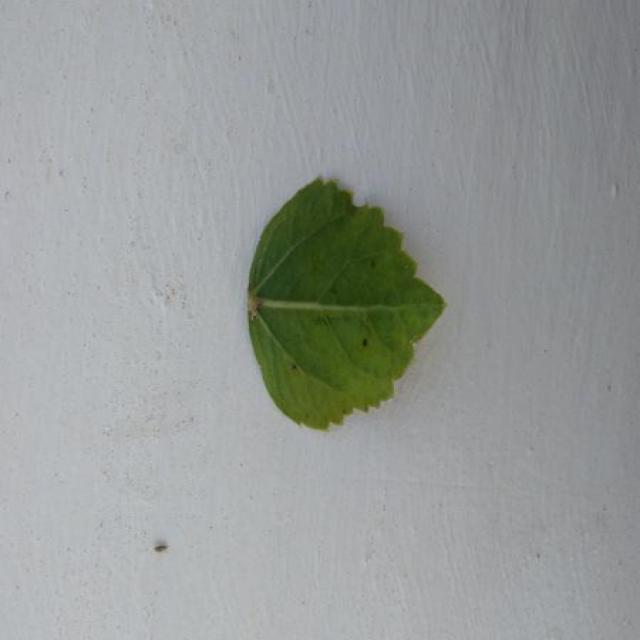Hibiscus: (248, 179, 445, 429)
